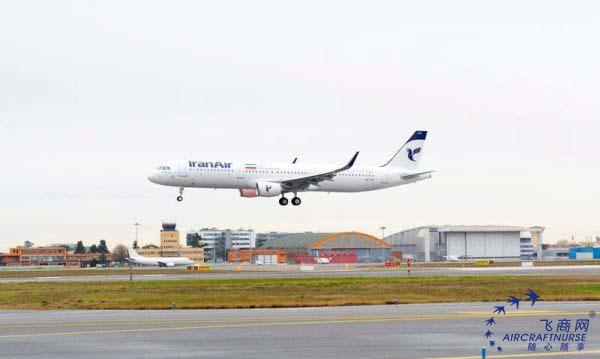airplane: (148, 123, 434, 205)
